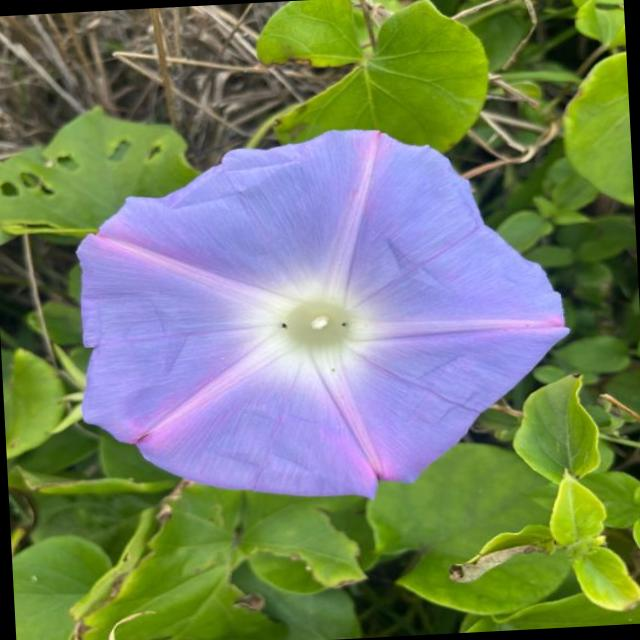ipomoea: (63, 116, 582, 516)
